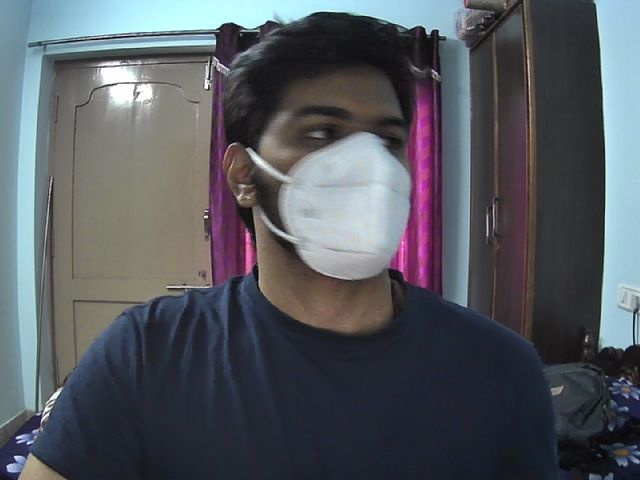Mask: (249, 145, 414, 283)
